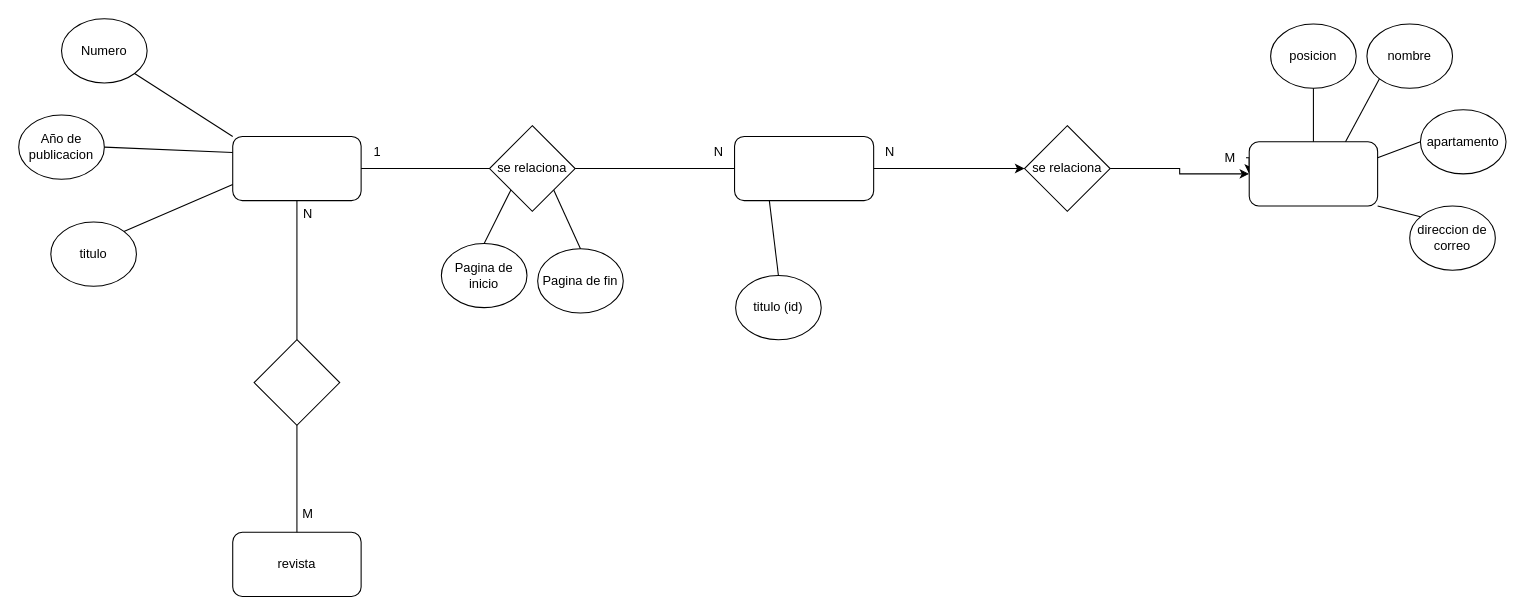
This 1525x615 diagram has some shape labels left out. The centre of each missing label's shape, as x and y in pixels:
"articulos publicados" goes at point 803,168.
"autores" goes at point 1313,173.
"ISSN" goes at point 296,382.
"publicacion" goes at point 296,168.
